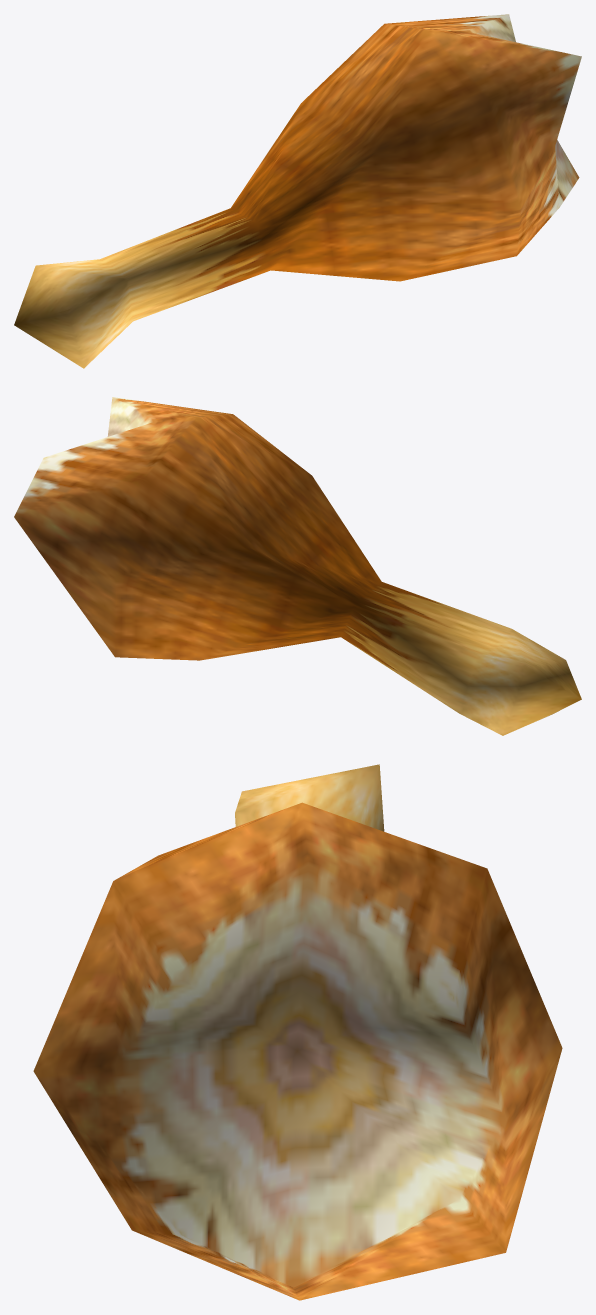
File: turkeyleg.obj
3 views of the same model, one above another, from view 1: azimuth 30°, elevation 25°; view 2: azimuth 150°, elevation 25°; view 3: azimuth 270°, elevation 25° (orthographic). The views are drawn at different scales.
Parts seen in each view (by area): view 1: turkeyleg.m2; view 2: turkeyleg.m2; view 3: turkeyleg.m2.
Part boxes in pixels (left/top/right/bottom): turkeyleg.m2: left=14, top=14, right=581, bottom=368; turkeyleg.m2: left=14, top=397, right=581, bottom=735; turkeyleg.m2: left=33, top=764, right=562, bottom=1300.
Size of the model in its own units: 0.8537 by 0.3537 by 0.3693.
1 material, 1 textured.
